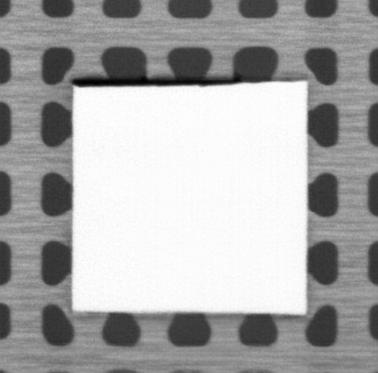DIE_BROKEN: (71, 75, 248, 90)
